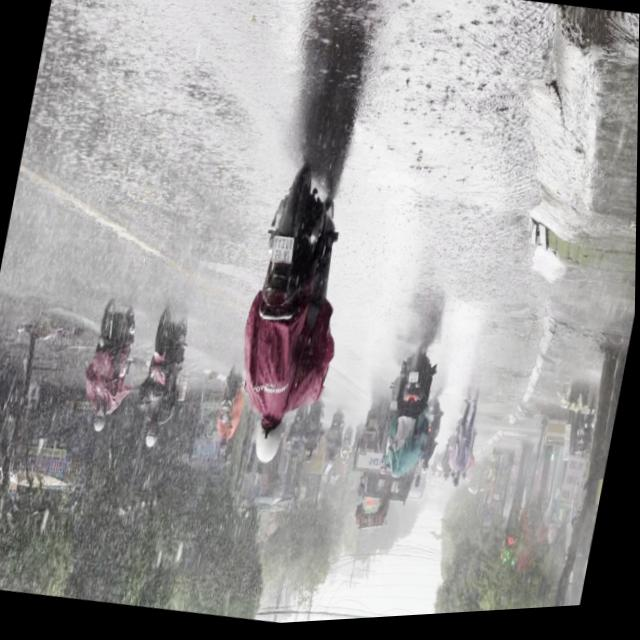helmet: (251, 418, 286, 471)
licenseplate: (217, 160, 363, 482)
nohelmet: (270, 238, 295, 268)
